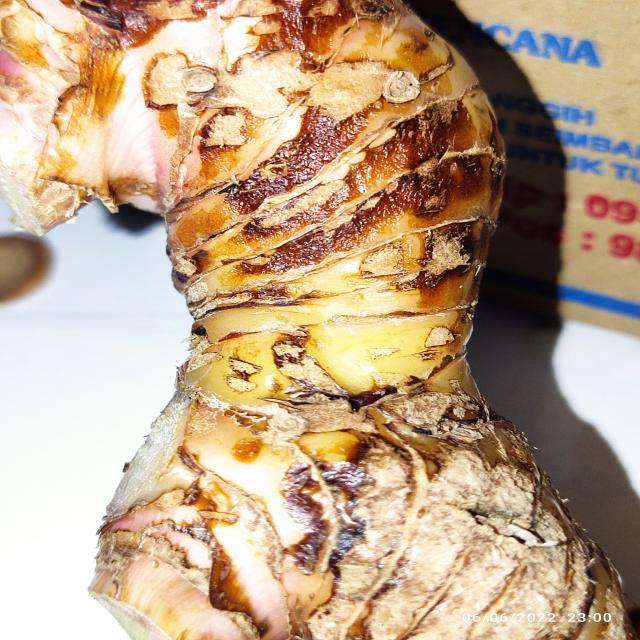ginger: (9, 0, 630, 640)
